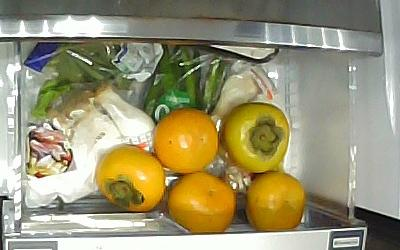persimmon: (96, 142, 166, 213), (224, 103, 291, 173), (165, 171, 237, 233), (153, 108, 218, 174), (246, 172, 307, 231)
